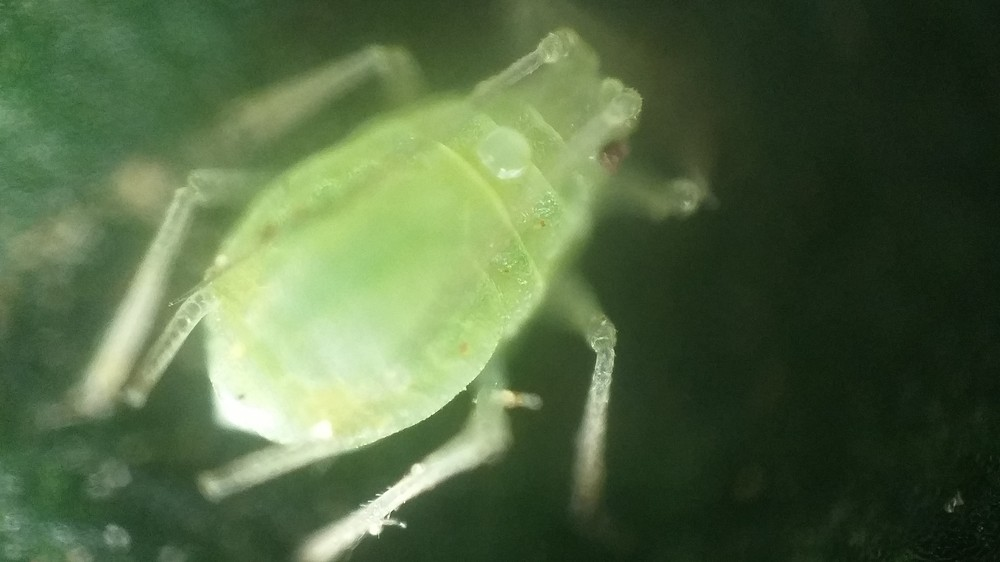Pulgon: (79, 13, 747, 553)
